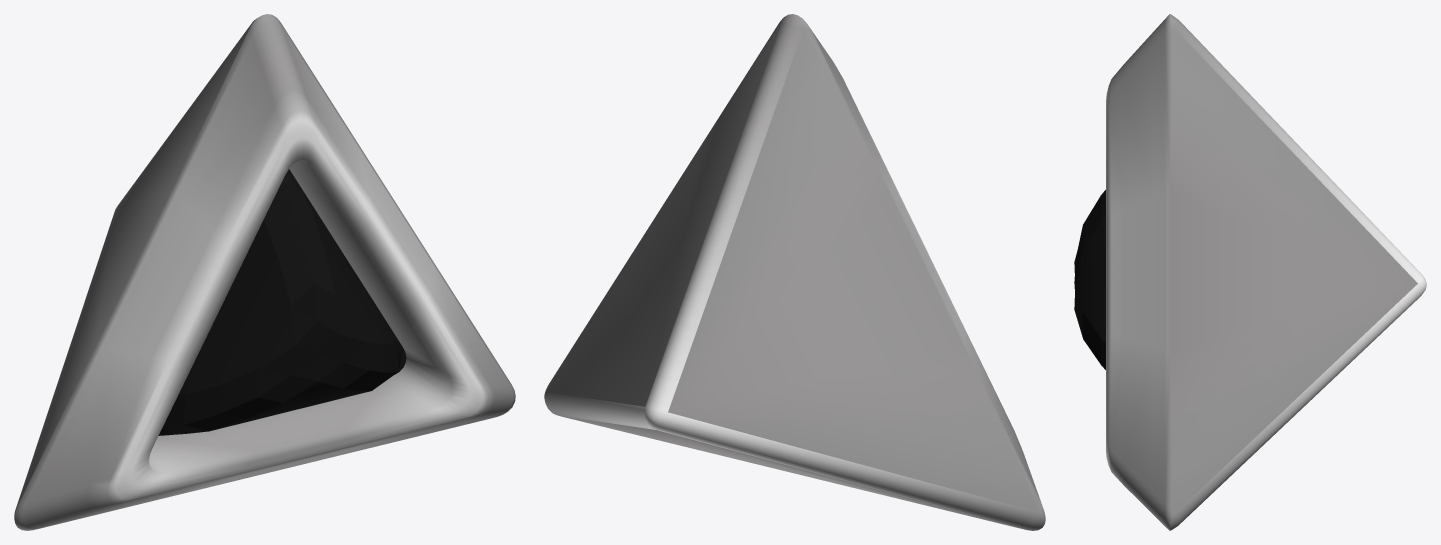
File: ribbon_gem.obj
The picture shows the model from 3 angles, left to right: view 1: azimuth 30°, elevation 25°; view 2: azimuth 150°, elevation 25°; view 3: azimuth 270°, elevation 25°; orthographic projection. The views are drawn at different scales.
Visible parts, largest first — view 1: Gem_LOD0_Cylinder.017; view 2: Gem_LOD0_Cylinder.017; view 3: Gem_LOD0_Cylinder.017.
Part boxes in pixels (x1,y1,x2,y2): Gem_LOD0_Cylinder.017: [14, 14, 515, 530]; Gem_LOD0_Cylinder.017: [544, 14, 1045, 530]; Gem_LOD0_Cylinder.017: [1074, 14, 1426, 530].
Size of the model in its own units: 0.2997 by 0.2623 by 0.2034.
2 materials, 1 textured.
